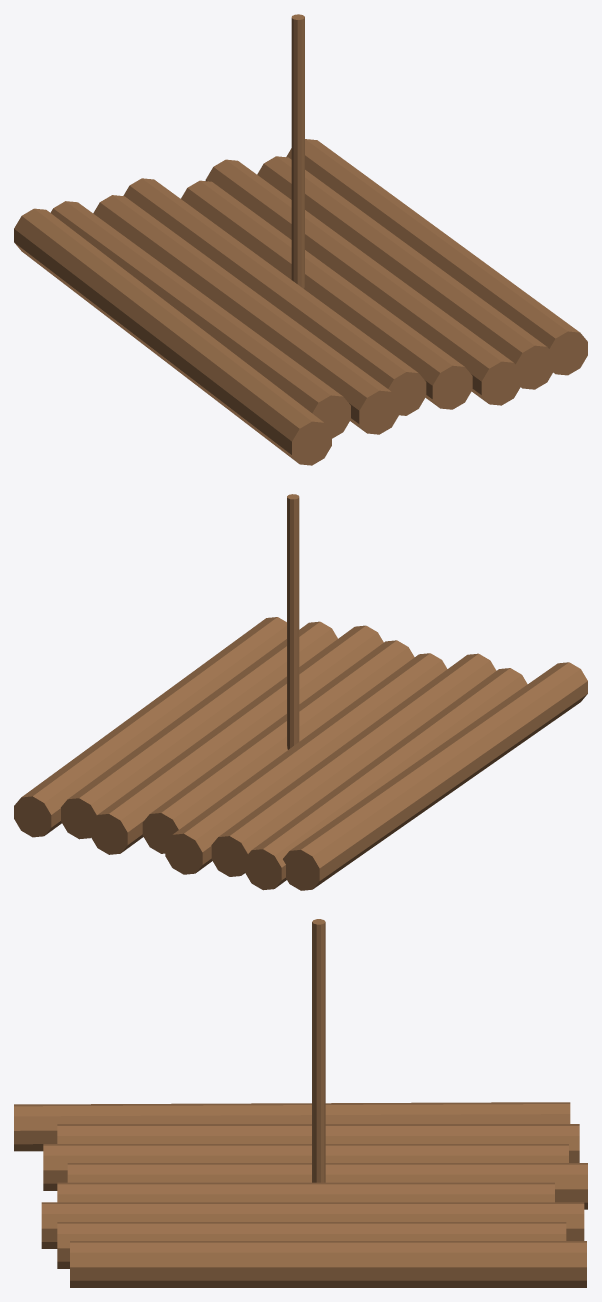
The model's file is Boat_1.fbx.
3 renders of one model, top to bottom at view 1: azimuth 30°, elevation 25°; view 2: azimuth 150°, elevation 25°; view 3: azimuth 270°, elevation 25°, orthographic. The views are drawn at different scales.
Parts seen in each view (by area): view 1: Boat_mesh; view 2: Boat_mesh; view 3: Boat_mesh.
Boxes of the visible parts, x1,y1,x2,y2 form: Boat_mesh: [14, 14, 587, 465]; Boat_mesh: [14, 494, 587, 890]; Boat_mesh: [14, 919, 587, 1287].
Bounding box in the file's own units: 278 × 246 × 433.
